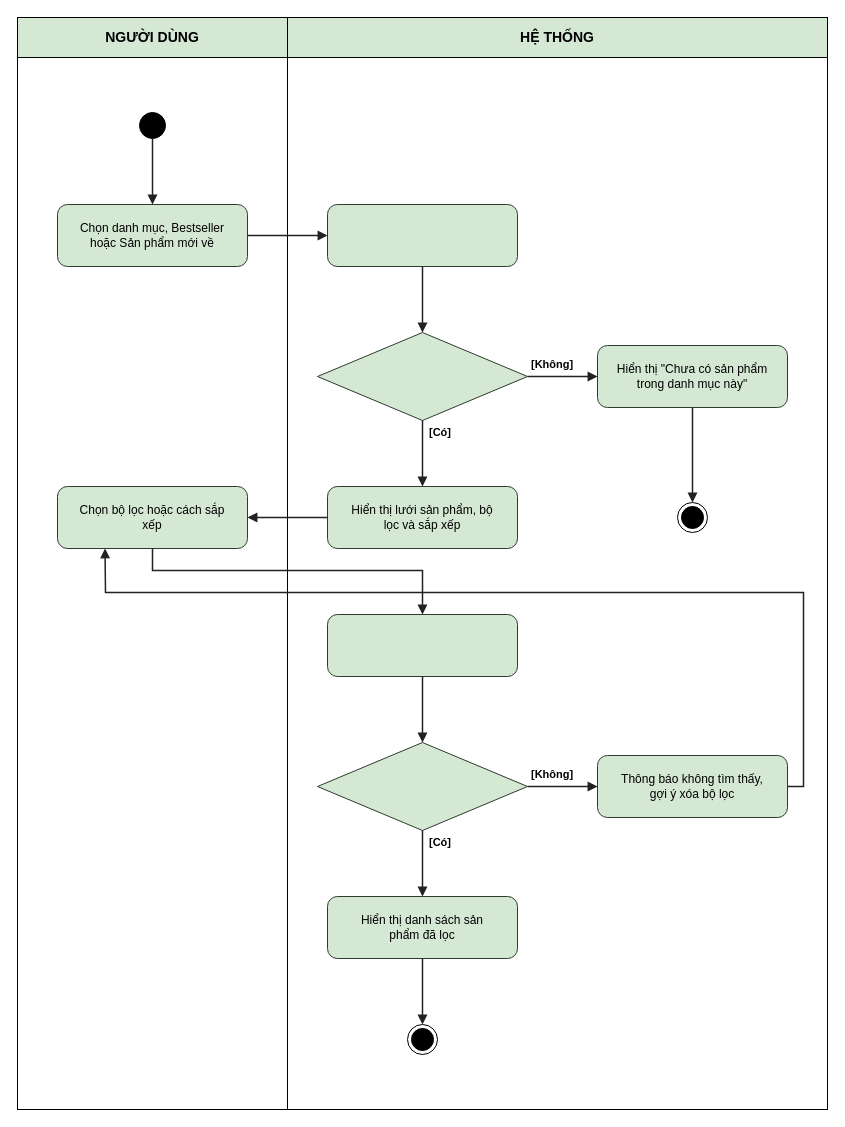
Some shapes in this 845 by 1127 pixel diagram are drawn without their labels. The shapes that lost their labels are listed below. From the top down, each one's centre as x and y in pixels, then its label:
At point 422,235: "Truy vấn sản phẩm theo danh mục".
At point 422,376: "Có sản phẩm?".
At point 422,645: "Lọc và sắp xếp danh sách sản phẩm".
At point 422,786: "Có sản phẩm khớp bộ lọc?".
